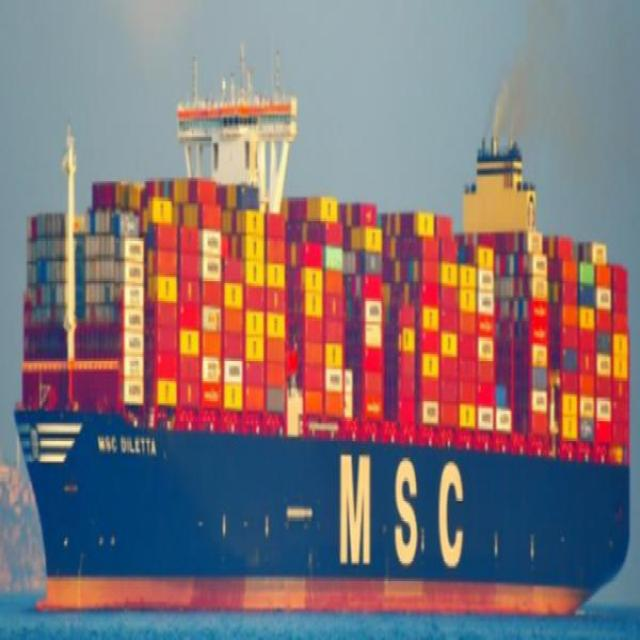Container Ship: (10, 37, 630, 616)
